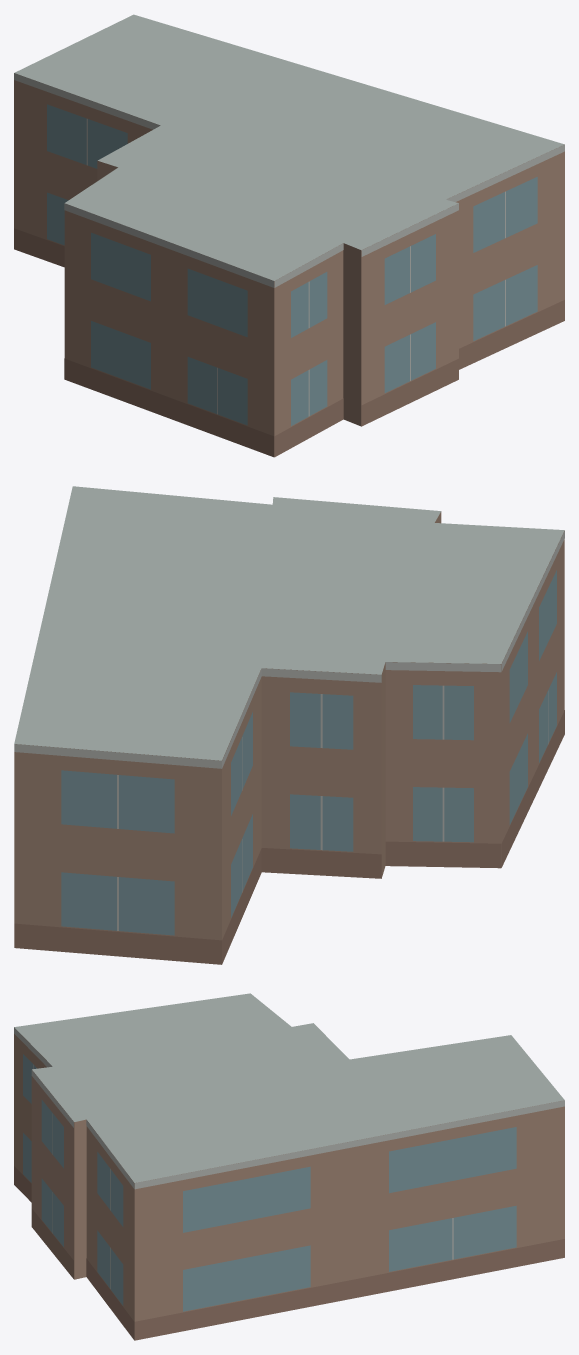
Rendered from survey-upis-32834473.glb.
3 renders of one model, top to bottom at view 1: azimuth 30°, elevation 25°; view 2: azimuth 150°, elevation 25°; view 3: azimuth 270°, elevation 25°, orthographic. The views are drawn at different scales.
Parts seen in each view (by area): view 1: survey-upis-32834473.tmp; view 2: survey-upis-32834473.tmp; view 3: survey-upis-32834473.tmp.
Part boxes in pixels (box(x1,y1,x2,y2)): survey-upis-32834473.tmp: box(14, 14, 564, 457); survey-upis-32834473.tmp: box(14, 486, 564, 964); survey-upis-32834473.tmp: box(14, 993, 564, 1340).
Size of the model in its own units: 15.77 by 6.1 by 19.34.
